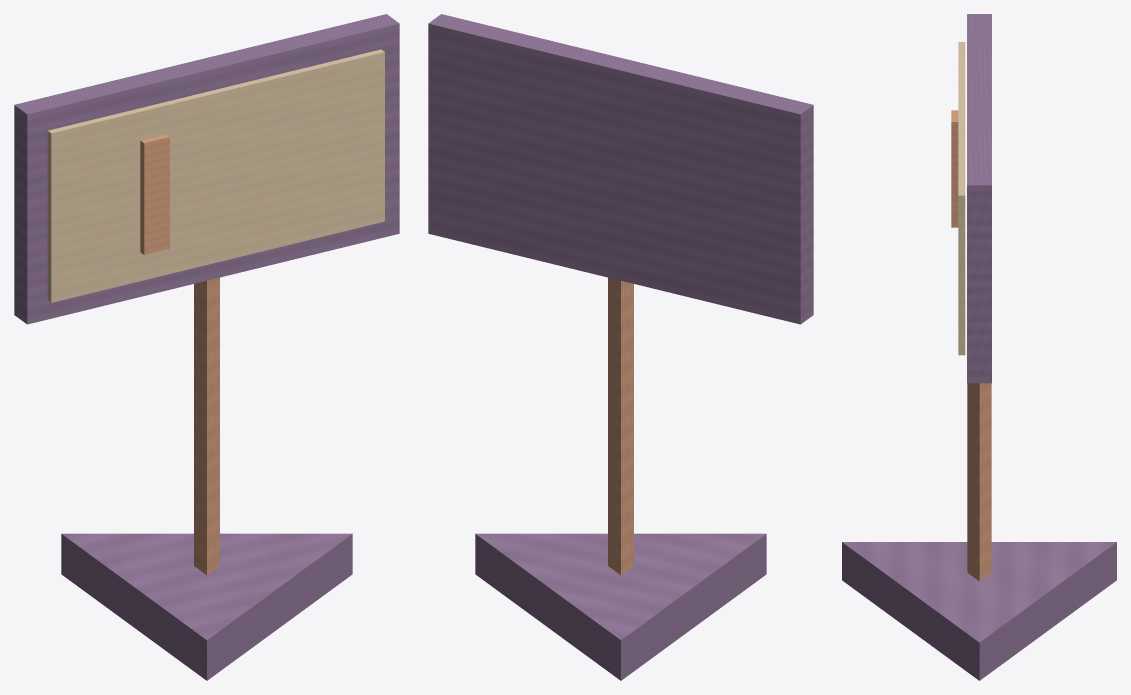
File: atlas100-s083-a11.lod2.glb
3 views of the same model, side by side, from view 1: azimuth 30°, elevation 25°; view 2: azimuth 150°, elevation 25°; view 3: azimuth 270°, elevation 25° (orthographic). The views are drawn at different scales.
Parts seen in each view (by area): view 1: atlas100-s083-a11:part-003, atlas100-s083-a11:part-002, atlas100-s083-a11:part-000, atlas100-s083-a11:part-001, atlas100-s083-a11:part-004; view 2: atlas100-s083-a11:part-002, atlas100-s083-a11:part-000, atlas100-s083-a11:part-001; view 3: atlas100-s083-a11:part-000, atlas100-s083-a11:part-002, atlas100-s083-a11:part-001, atlas100-s083-a11:part-003, atlas100-s083-a11:part-004.
Part boxes in pixels (x1,y1,x2,y2): atlas100-s083-a11:part-003: (47,49,384,302); atlas100-s083-a11:part-002: (14,14,399,324); atlas100-s083-a11:part-000: (61,533,352,680); atlas100-s083-a11:part-001: (194,277,219,575); atlas100-s083-a11:part-004: (140,134,169,254); atlas100-s083-a11:part-002: (428,14,813,324); atlas100-s083-a11:part-000: (475,533,766,680); atlas100-s083-a11:part-001: (608,277,633,575); atlas100-s083-a11:part-000: (842,542,1116,680); atlas100-s083-a11:part-002: (967,14,991,383); atlas100-s083-a11:part-001: (967,383,991,581); atlas100-s083-a11:part-003: (958,42,965,355); atlas100-s083-a11:part-004: (951,110,958,227).
Size of the model in its own units: 1.15 by 1.61 by 0.7794.
3 materials, 3 textured.
